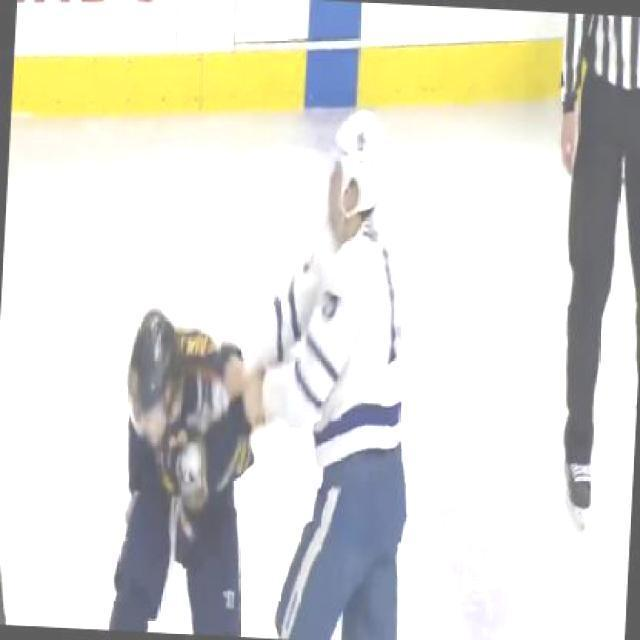fight: (112, 96, 426, 638)
